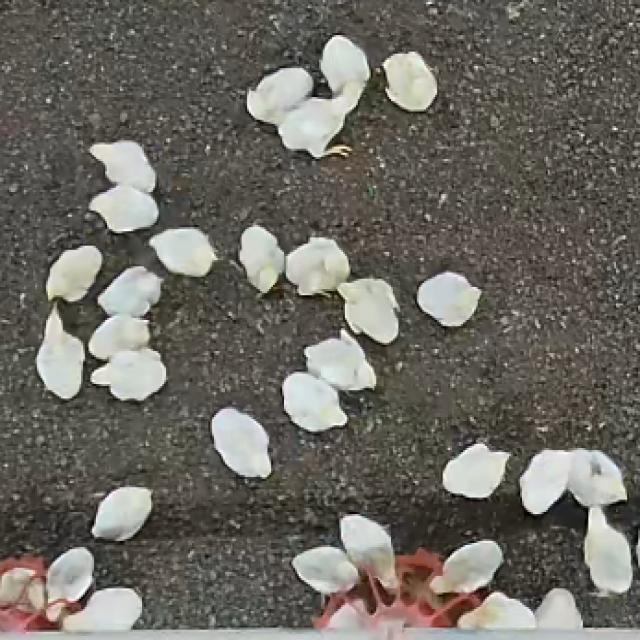broiler: (35, 306, 83, 398), (279, 95, 350, 157), (339, 514, 397, 588), (583, 506, 631, 595), (210, 407, 271, 477), (304, 330, 373, 390), (90, 347, 166, 398), (319, 35, 369, 111), (430, 541, 502, 593), (282, 372, 345, 431), (339, 279, 397, 343), (443, 442, 509, 498), (284, 237, 347, 295), (44, 547, 92, 623), (247, 68, 312, 124), (417, 270, 480, 326), (90, 140, 155, 192), (149, 227, 216, 277), (518, 450, 570, 514), (61, 586, 140, 628), (90, 487, 151, 541), (568, 448, 623, 506), (238, 225, 284, 293), (98, 266, 160, 316), (291, 547, 358, 593), (89, 186, 157, 231), (382, 52, 435, 109), (48, 246, 101, 299), (457, 593, 535, 628), (89, 314, 148, 359), (0, 568, 44, 609), (537, 588, 581, 628)
rice: (314, 549, 480, 626)
